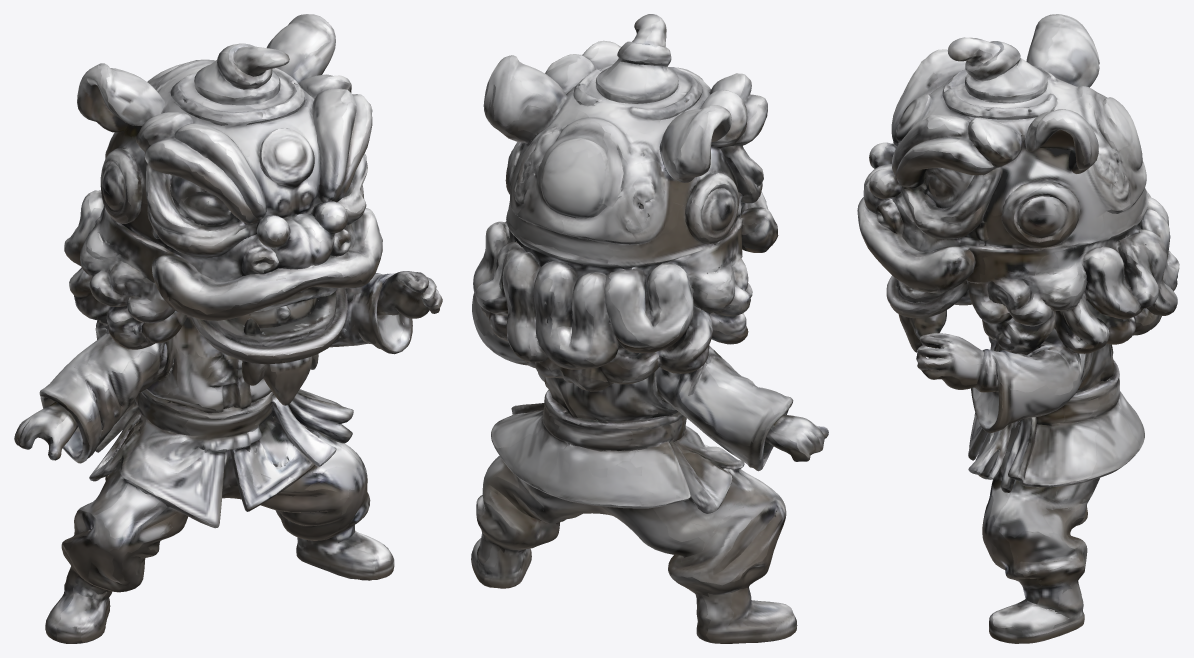
3 views of the same model, side by side, from view 1: azimuth 30°, elevation 25°; view 2: azimuth 150°, elevation 25°; view 3: azimuth 270°, elevation 25° (orthographic). The views are drawn at different scales.
Parts seen in each view (by area): view 1: geometry_0; view 2: geometry_0; view 3: geometry_0.
Boxes of the visible parts, bbox=[...] form: geometry_0: bbox=[14, 14, 442, 643]; geometry_0: bbox=[471, 14, 828, 643]; geometry_0: bbox=[857, 14, 1179, 643].
Size of the model in its own units: 0.1242 by 0.18 by 0.0982.
1 material, 1 textured.
